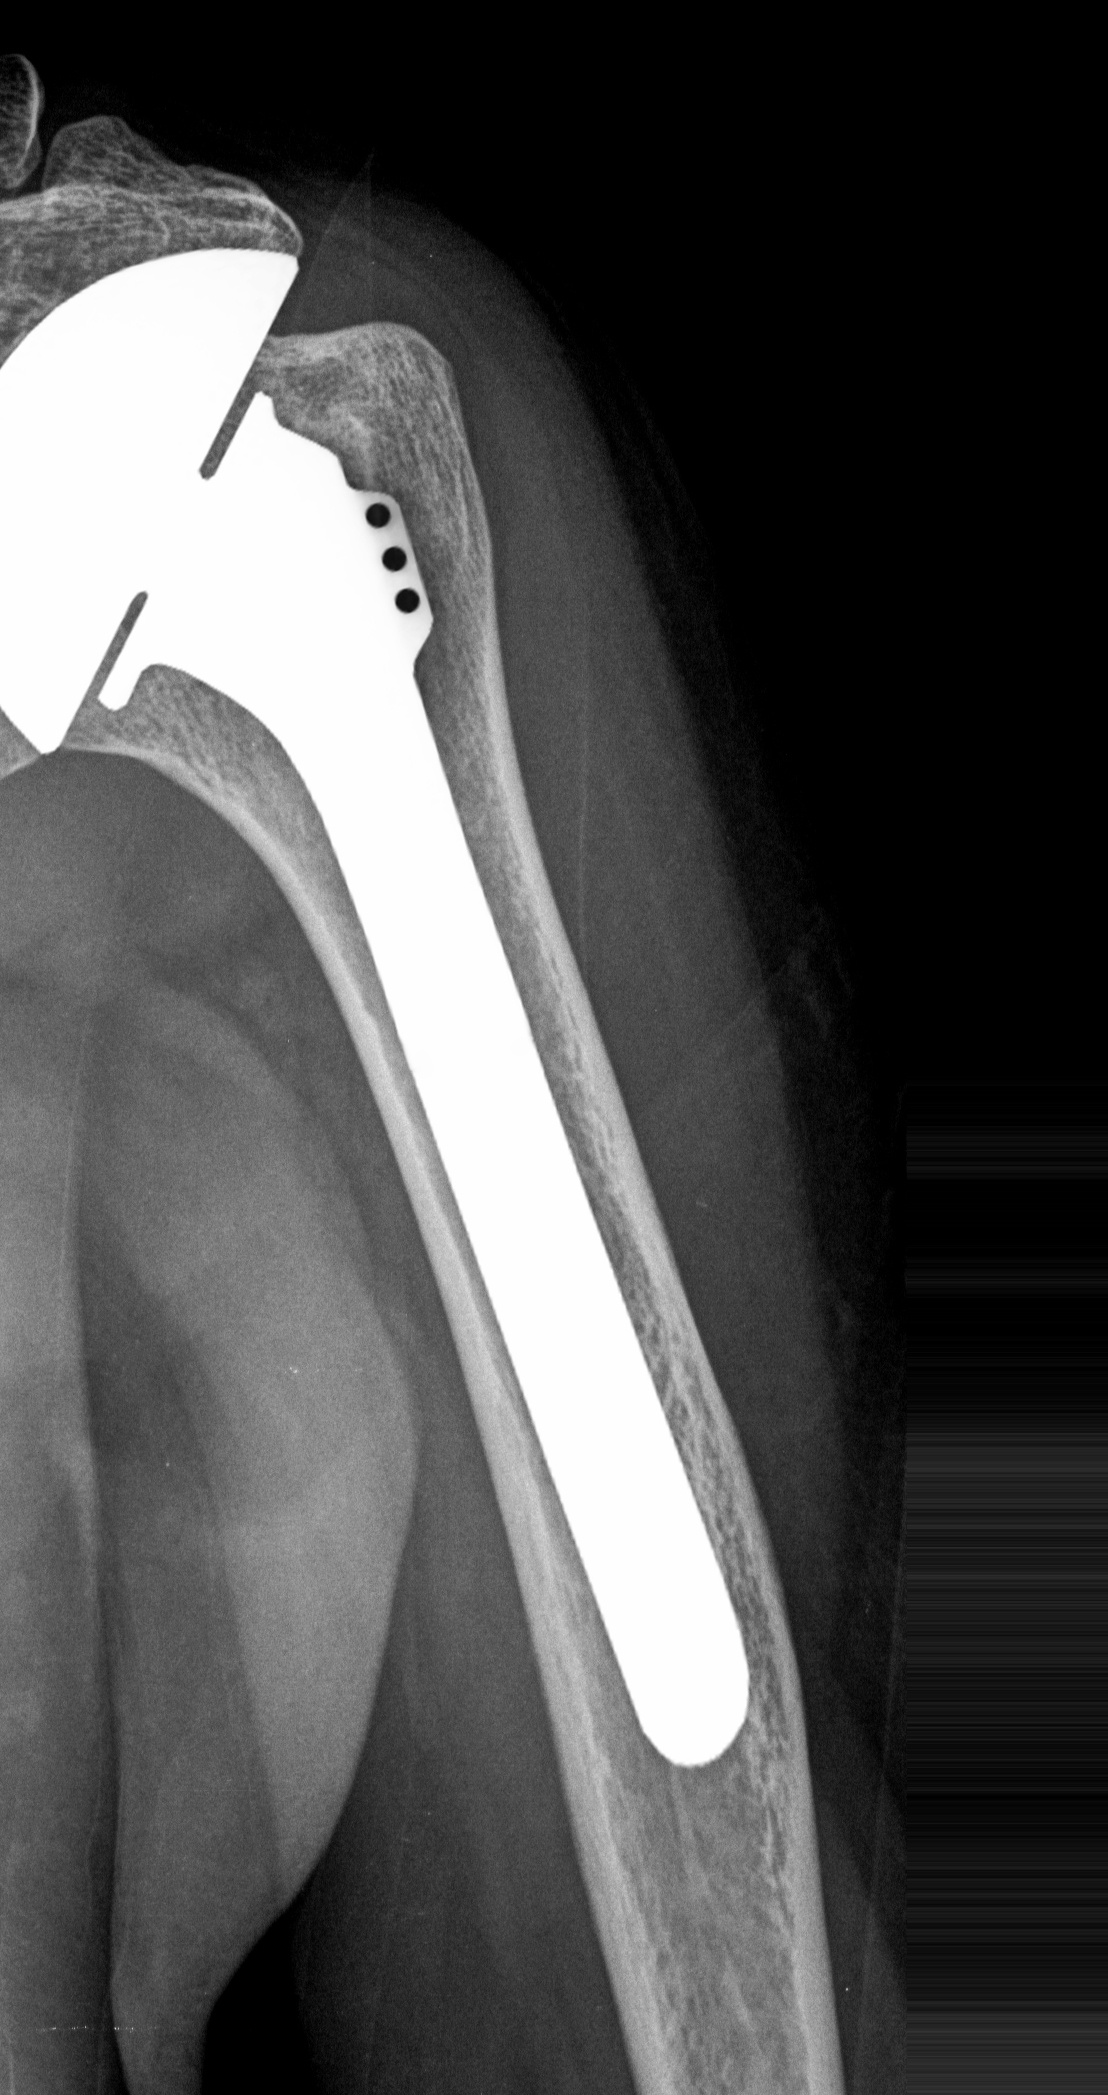Shoulder - Olympia - Wright: (1, 240, 438, 772)
